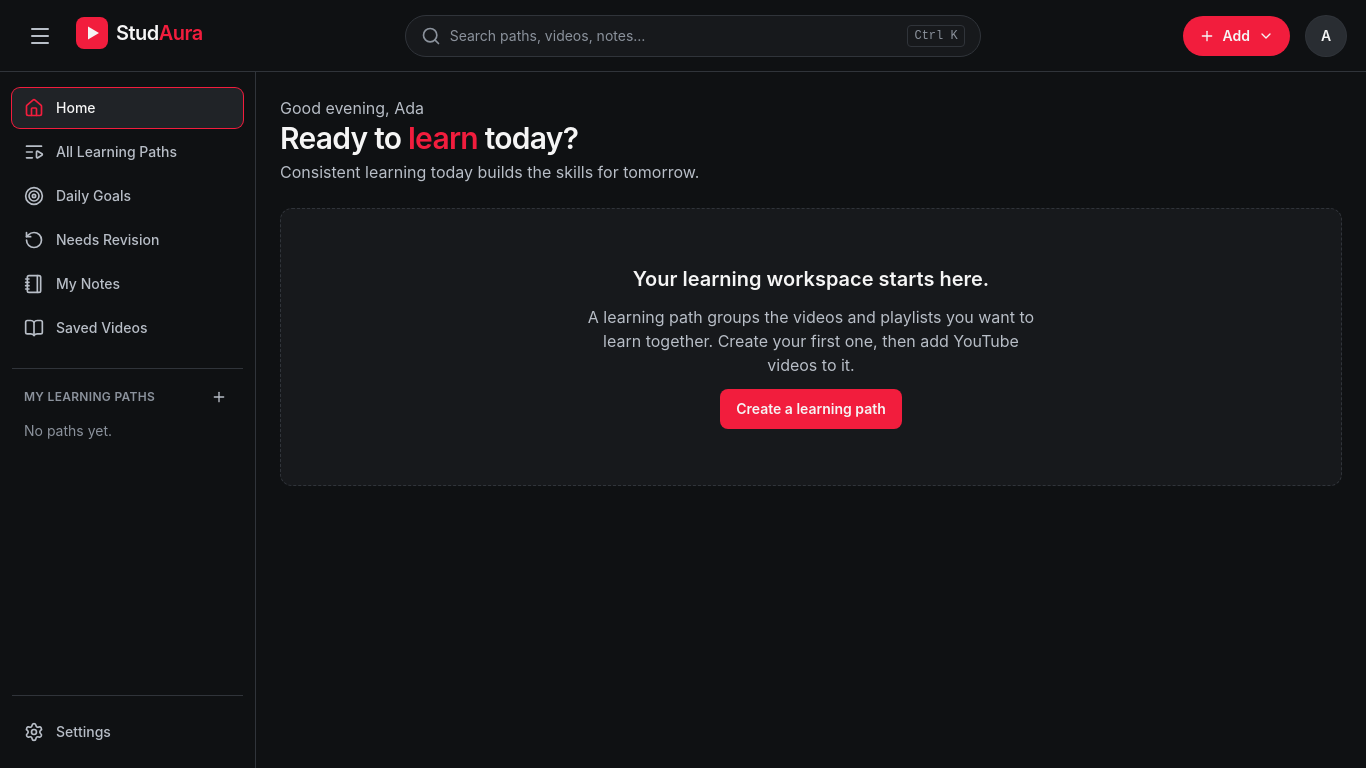
Test case: Create learning path dialog › closes on Escape and gives focus back to the button that opened it
The width and height of the screenshot is (1366, 768).
Click the button "Create a learning path" at (811, 409), box [720,389,902,429]
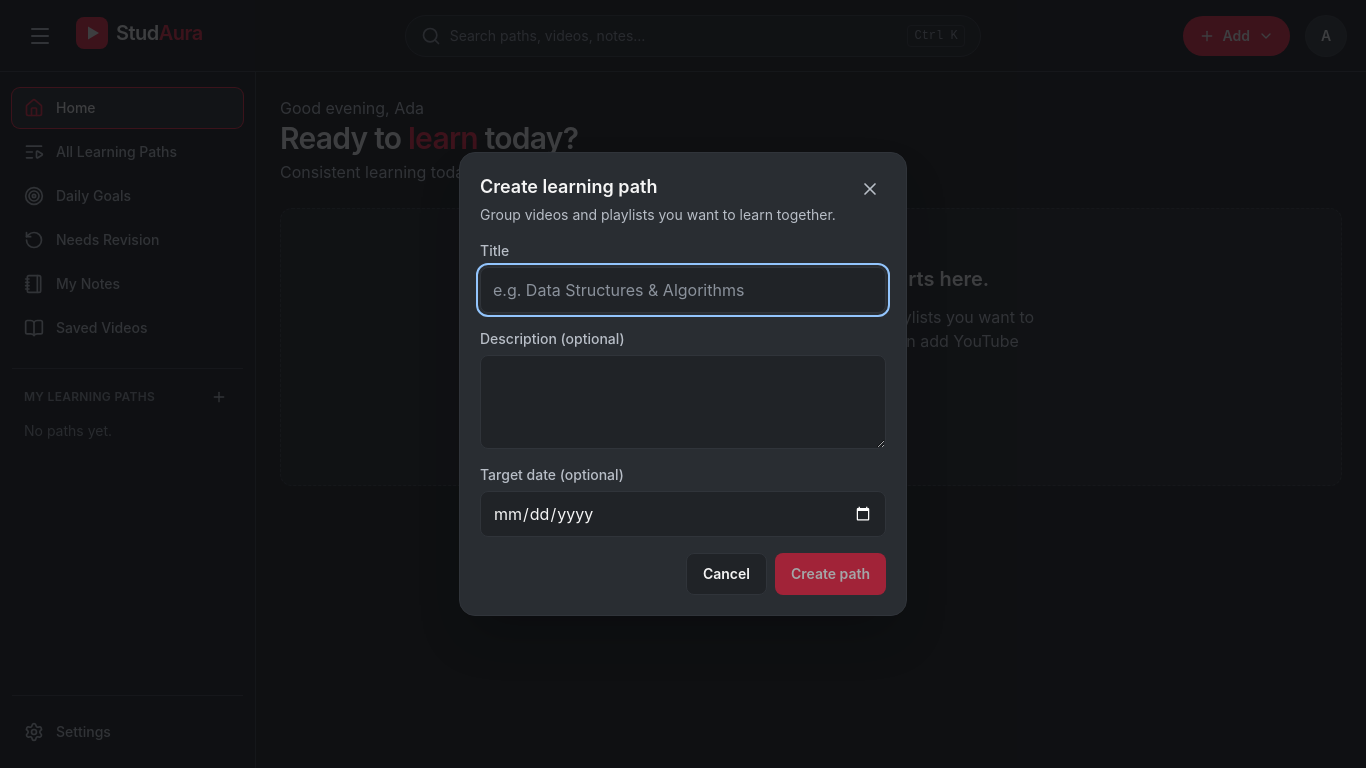
Press Escape
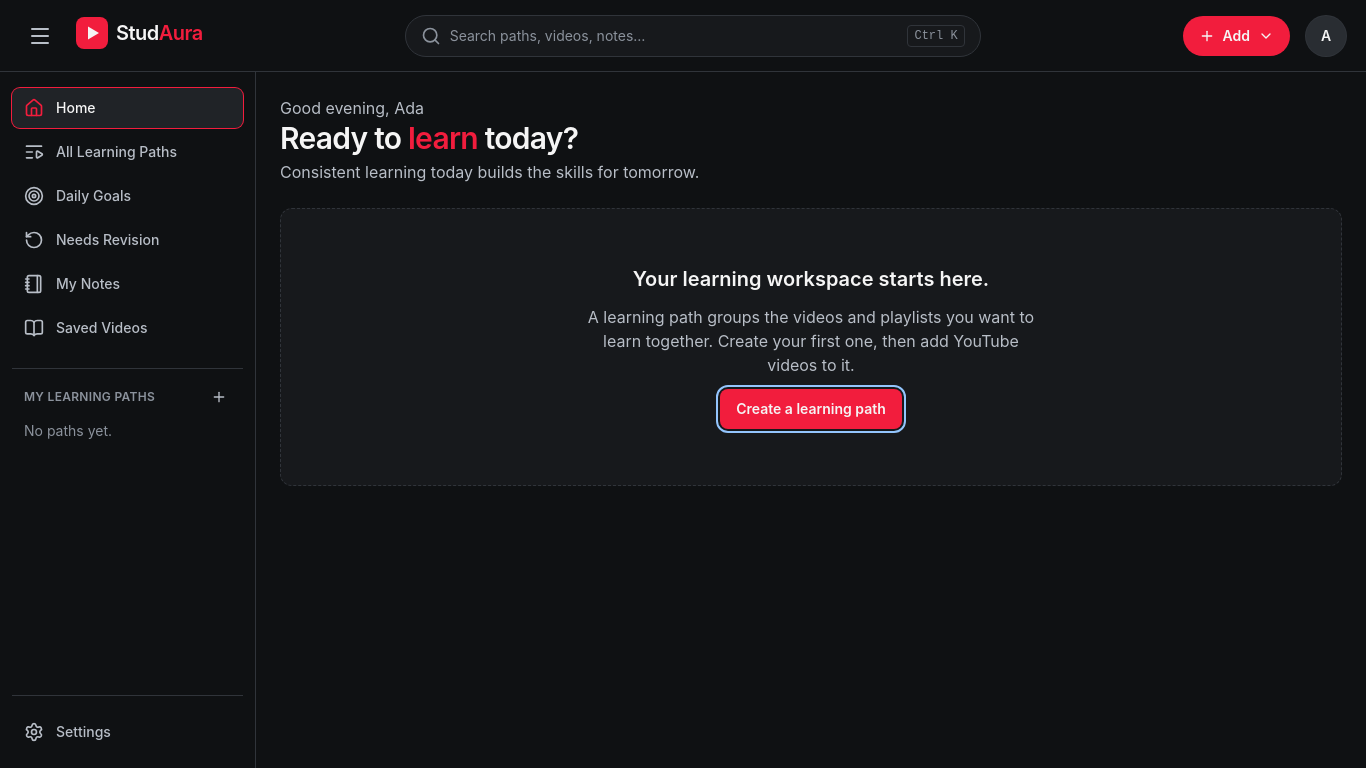
Expected: the dialog is gone
